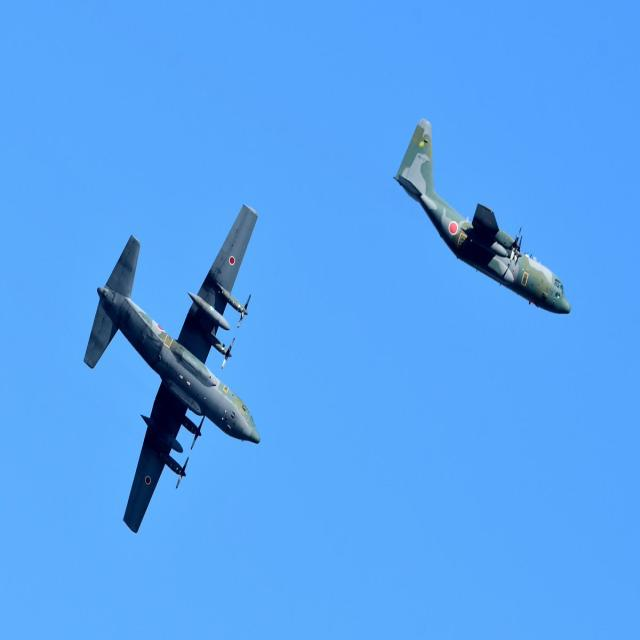MIL_Plane: (51, 204, 230, 535), (391, 118, 572, 315)
